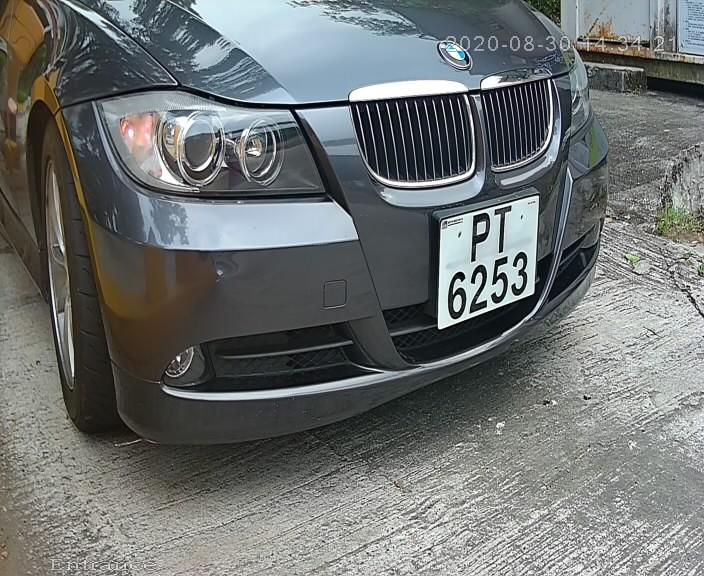License Plate: (431, 188, 544, 337)
